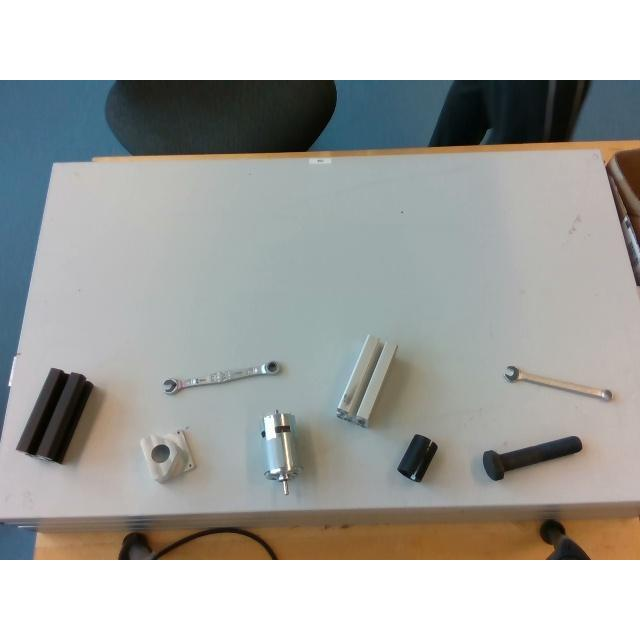M20_100: (482, 436, 582, 480)
Motor2: (258, 408, 306, 496)
S40_40_B: (17, 368, 92, 462)
S40_40_G: (336, 334, 396, 426)
Wrench: (161, 362, 279, 394)
